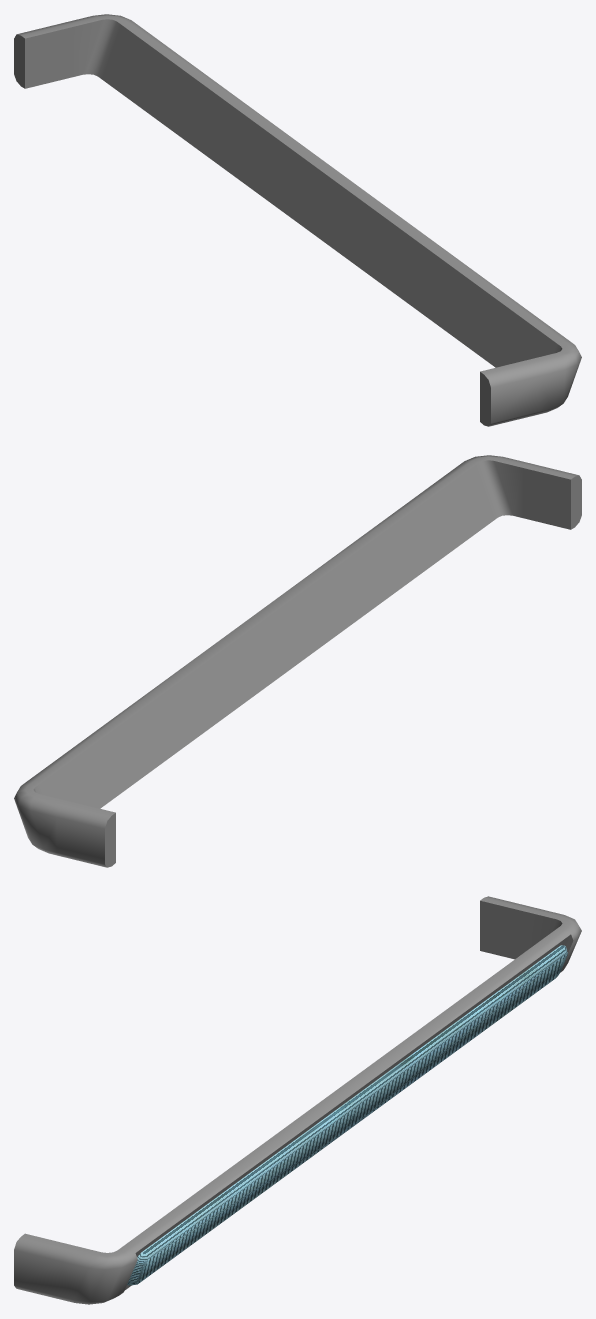
The model's file is Neon_DoorTubeLight_01.FBX.
The picture shows the model from 3 angles, top to bottom: view 1: azimuth 30°, elevation 25°; view 2: azimuth 150°, elevation 25°; view 3: azimuth 330°, elevation 25°; orthographic projection.
Visible parts, largest first — view 1: Neon_DoorTubeLight_01; view 2: Neon_DoorTubeLight_01; view 3: Neon_DoorTubeLight_01.
Part boxes in pixels (left/top/right/bottom): Neon_DoorTubeLight_01: left=14, top=14, right=581, bottom=426; Neon_DoorTubeLight_01: left=14, top=455, right=581, bottom=867; Neon_DoorTubeLight_01: left=14, top=896, right=581, bottom=1304.
Size of the model in its own units: 0.5452 by 0.2528 by 4.3.
